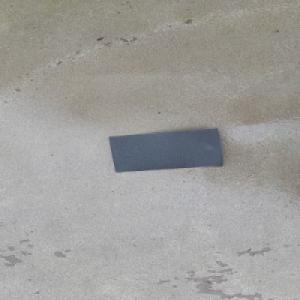PaintChip: (107, 127, 223, 172)
